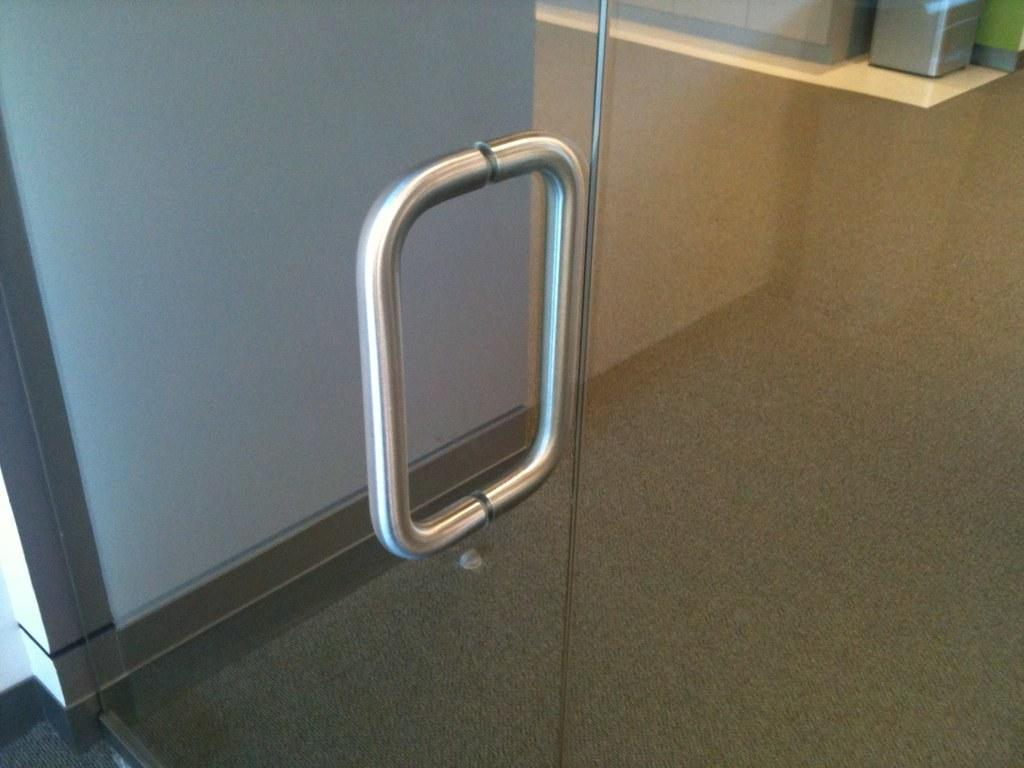door: (94, 9, 588, 748)
handle: (342, 140, 488, 568), (483, 114, 596, 515)
